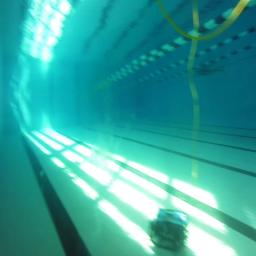Side: (147, 206, 190, 244)
